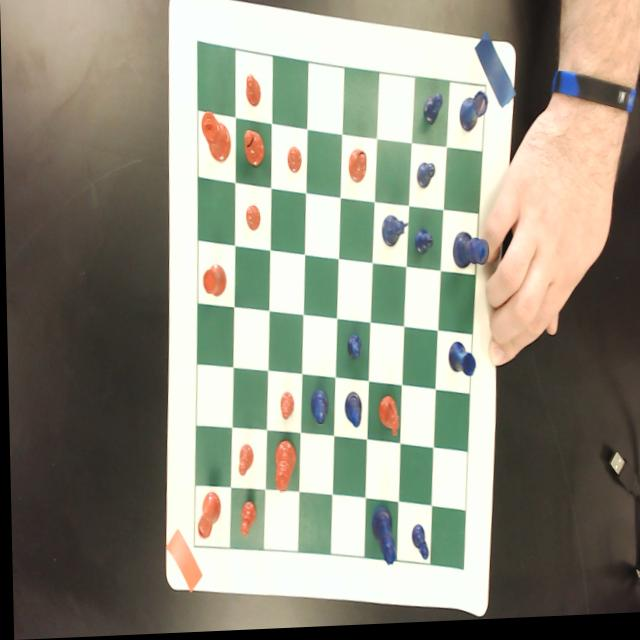B: (342, 394, 361, 432), (308, 390, 327, 428)
K: (451, 234, 488, 273)
N: (380, 218, 409, 253)
P: (422, 93, 443, 131), (409, 528, 426, 565), (415, 165, 436, 194), (413, 231, 433, 260), (345, 336, 360, 365)
Q: (369, 510, 394, 571)
R: (458, 95, 489, 138), (447, 345, 475, 384)
b: (243, 131, 265, 170), (347, 148, 366, 187)
k: (201, 111, 231, 166)
n: (376, 398, 398, 441)
p: (237, 501, 255, 539), (244, 75, 261, 110), (236, 446, 252, 479), (245, 207, 260, 235), (279, 394, 293, 423), (287, 149, 301, 177)
q: (272, 442, 295, 495)
r: (194, 493, 219, 542), (201, 264, 225, 300)
